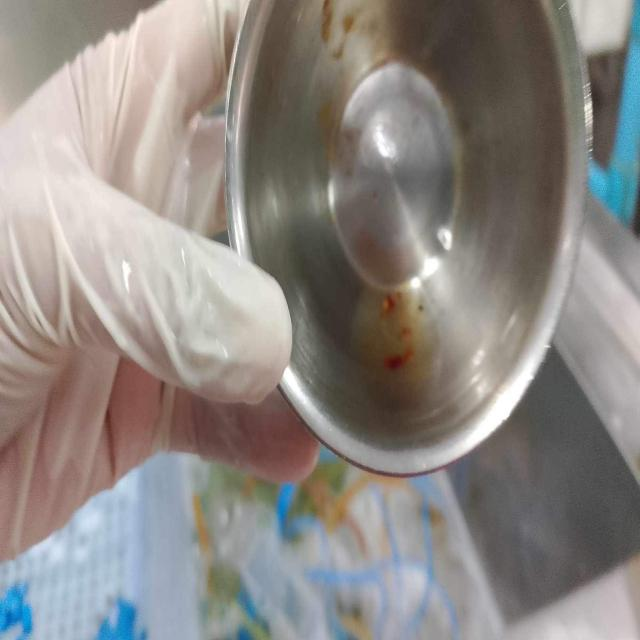General: (221, 1, 595, 480), (188, 452, 461, 637)
Infectious: (1, 0, 320, 563)
